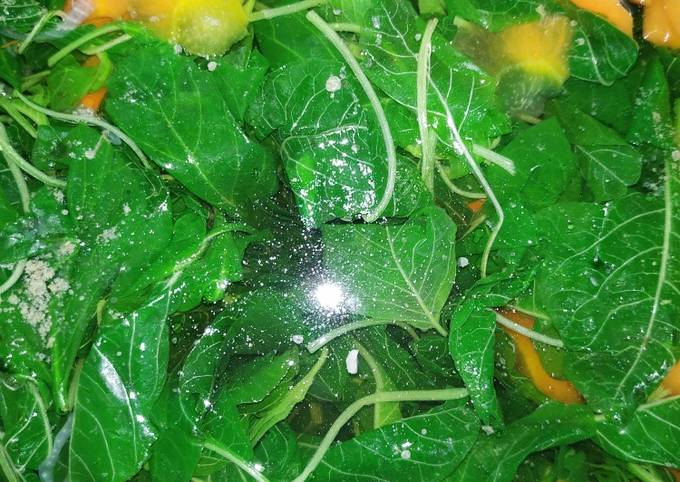Sayur Bayam: (90, 16, 640, 460)
